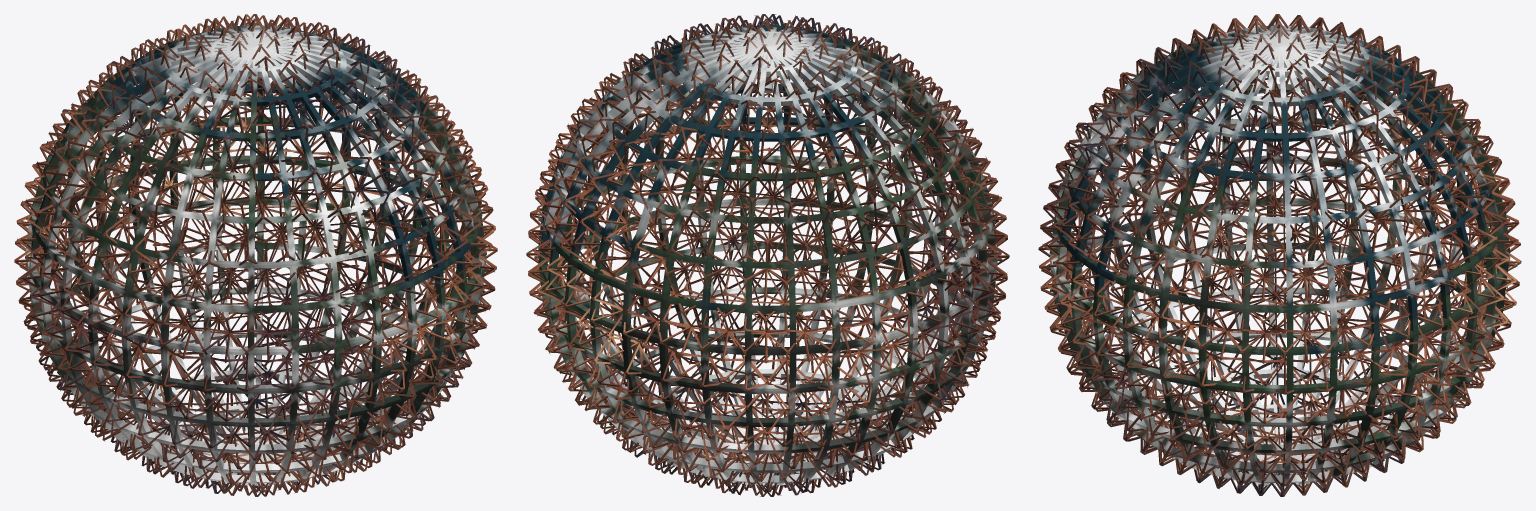
Rendered from ball.fbx.
The picture shows the model from 3 angles, left to right: view 1: azimuth 30°, elevation 25°; view 2: azimuth 150°, elevation 25°; view 3: azimuth 270°, elevation 25°; orthographic projection.
Visible parts, largest first — view 1: Sphere001, GeoSphere001; view 2: Sphere001, GeoSphere001; view 3: Sphere001, GeoSphere001.
Boxes of the visible parts, box(x1,y1,x2,y2) form: Sphere001: box(25, 25, 486, 485); GeoSphere001: box(14, 14, 497, 496); Sphere001: box(538, 25, 997, 485); GeoSphere001: box(526, 14, 1009, 496); Sphere001: box(1050, 25, 1509, 485); GeoSphere001: box(1038, 14, 1521, 496).
Bounding box in the file's own units: 131 × 131 × 131.
Materials: 2 (2 with a texture image).
